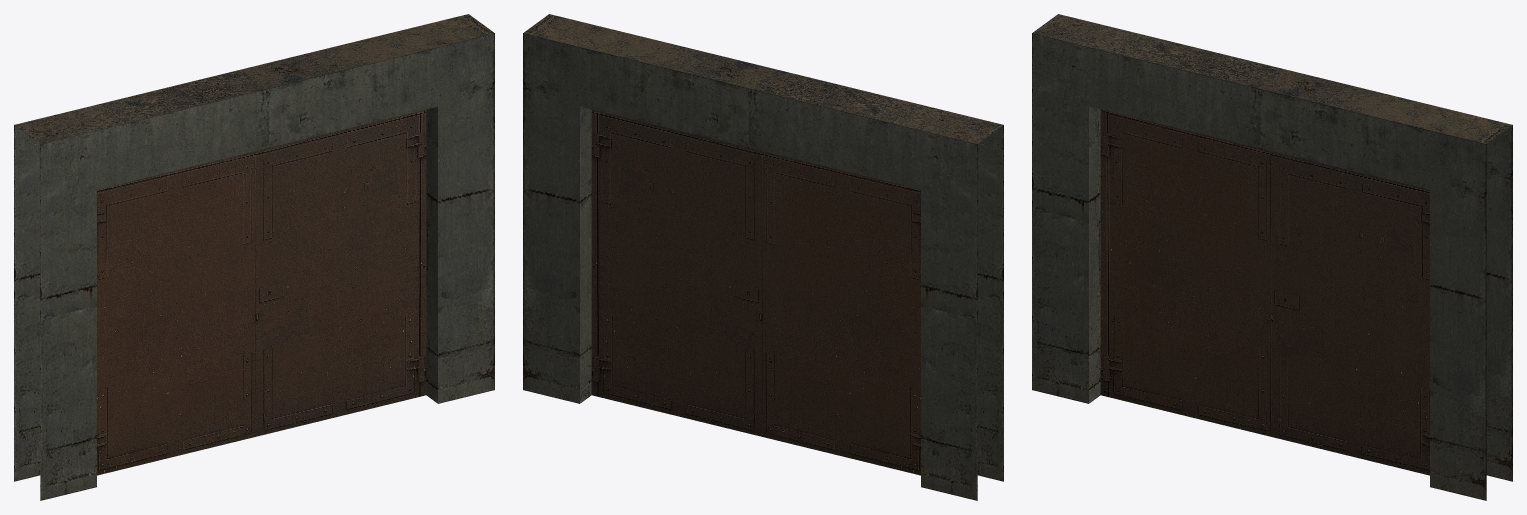
The model's file is garage_door_frame_rg_2.glb.
The picture shows the model from 3 angles, left to right: view 1: azimuth 30°, elevation 25°; view 2: azimuth 150°, elevation 25°; view 3: azimuth 330°, elevation 25°; orthographic projection.
Parts seen in each view (by area): view 1: garage_door_hm_3, garage_door_frame_rg_2; view 2: garage_door_hm_3, garage_door_frame_rg_2; view 3: garage_door_hm_3, garage_door_frame_rg_2.
Part boxes in pixels (<box>): garage_door_hm_3: <box>97,109,426,475</box>; garage_door_frame_rg_2: <box>14,14,494,500</box>; garage_door_hm_3: <box>591,109,920,475</box>; garage_door_frame_rg_2: <box>523,14,1003,500</box>; garage_door_hm_3: <box>1100,109,1429,475</box>; garage_door_frame_rg_2: <box>1032,14,1512,500</box>.
Size of the model in its own units: 4 by 3 by 0.4.
3 materials, 3 textured.
